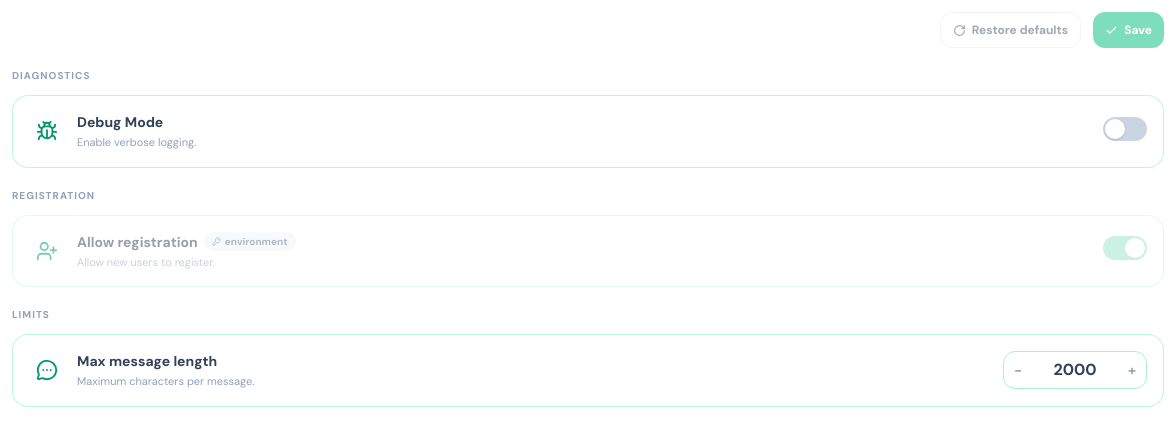
SettingsTab — environment-locked settings › keeps the control disabled while revealing the environment variable on hover
Expected: the switch in the row of "environment" is disabled, [1103,236,1147,260]
Hover over the text "environment".
mouse_move(250, 242)  # box [204,232,296,251]
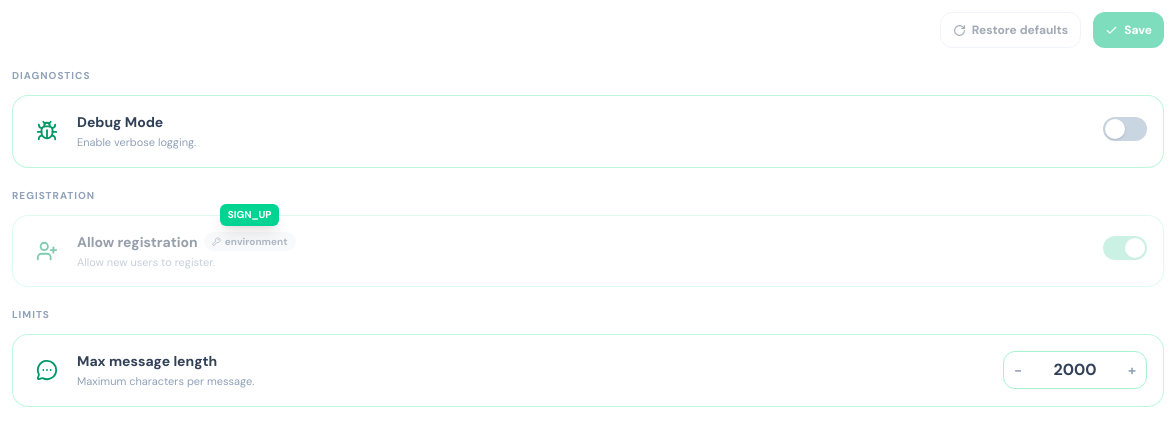
Expected: the tooltip reads "SIGN_UP", [228,208,272,221]
Expected: the tooltip "SIGN_UP" is shown, [220,204,280,226]
